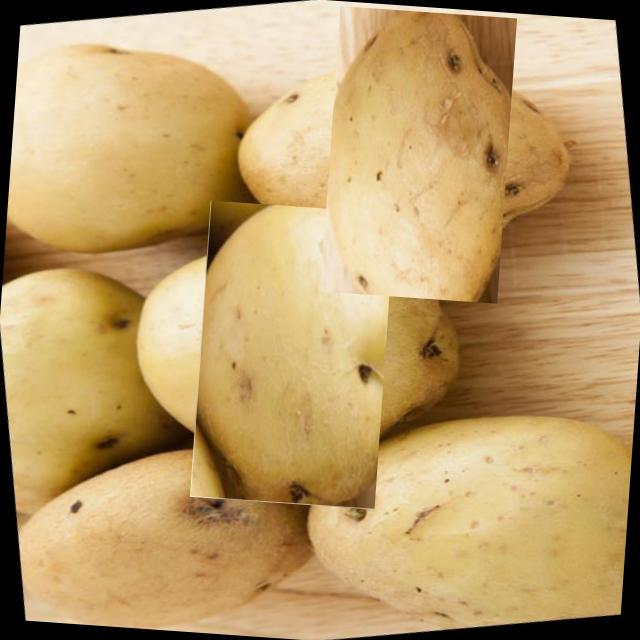potato: (164, 226, 420, 483), (294, 31, 542, 278)
